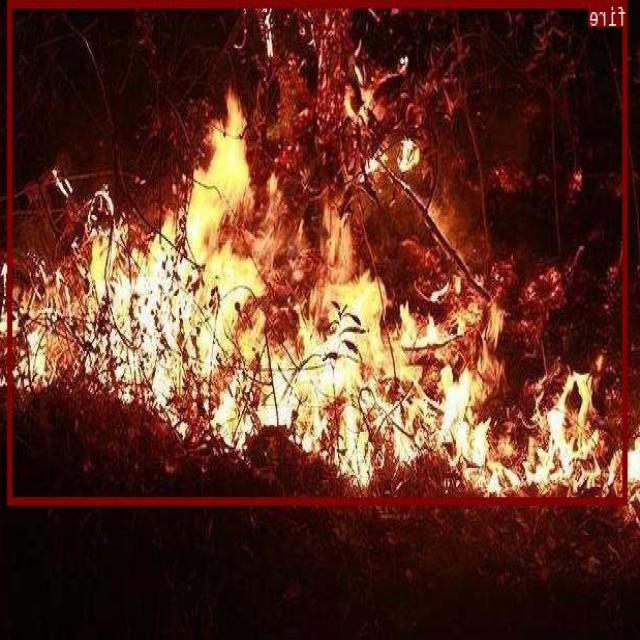fire: (9, 0, 629, 502)
